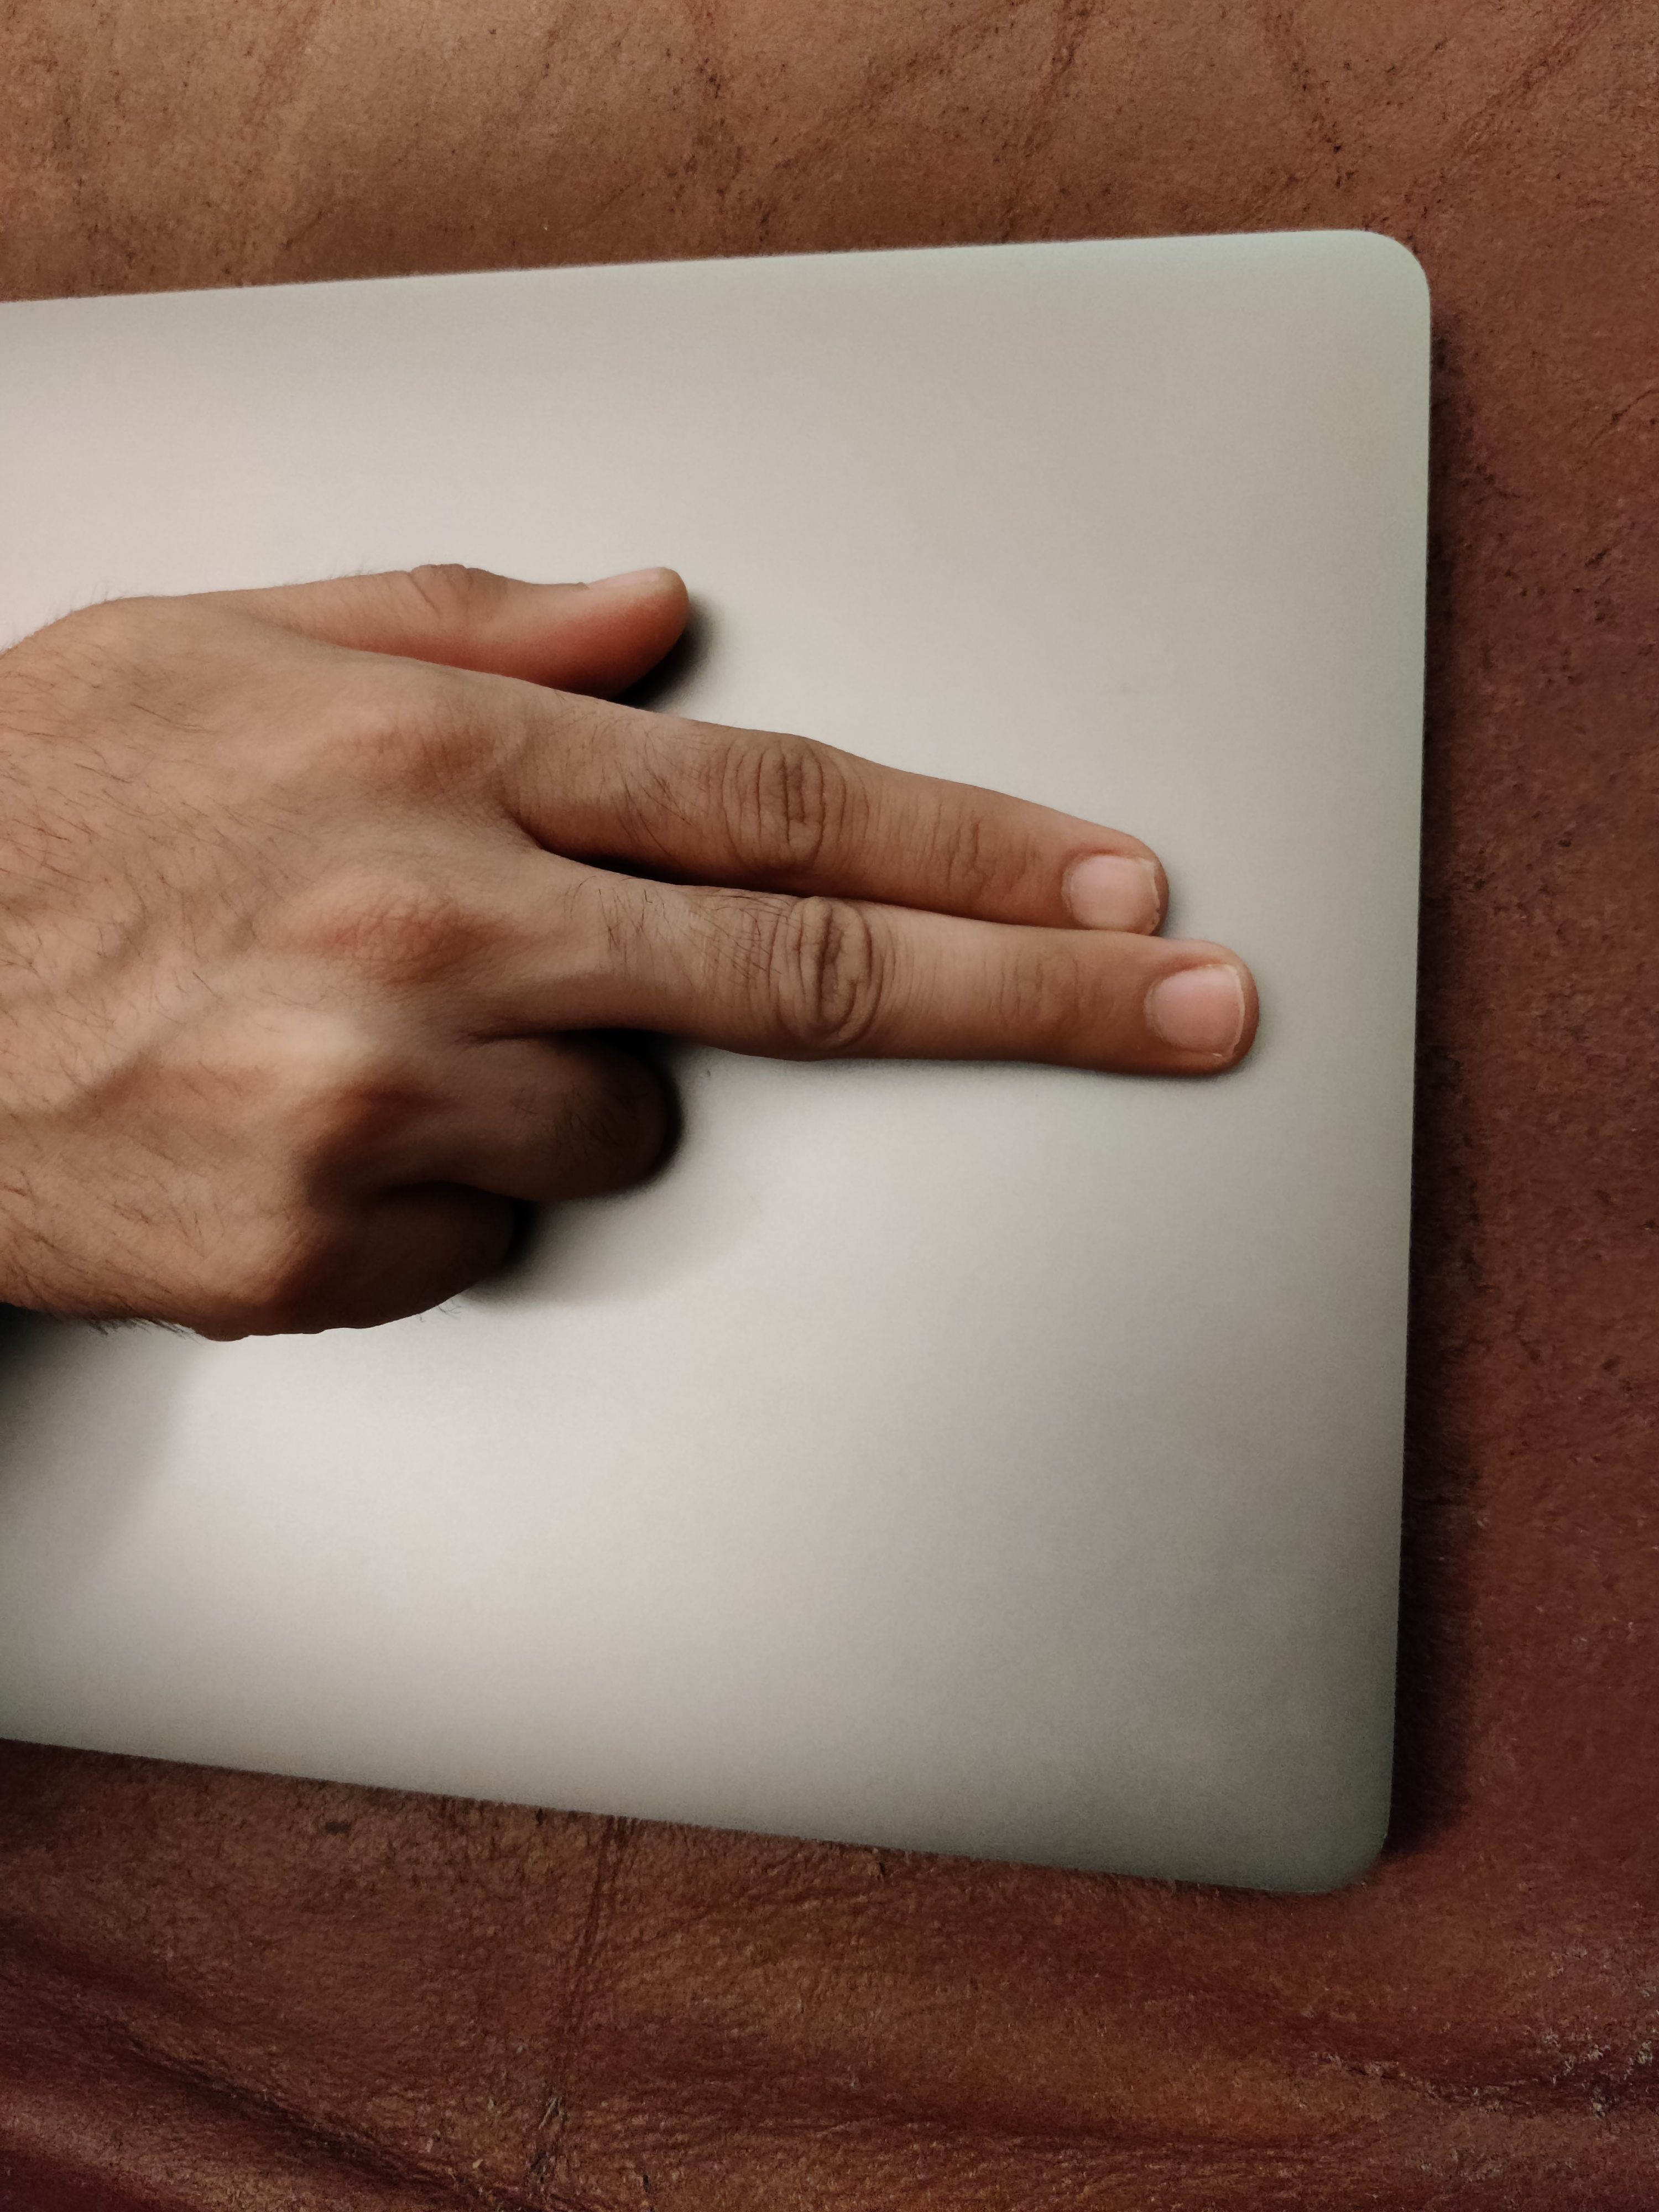left: (3, 228, 1532, 1404)
